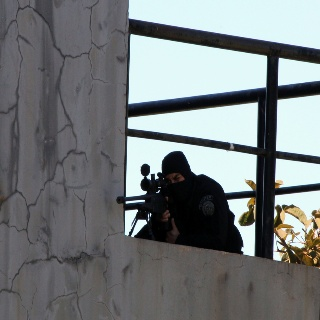rifle: (112, 162, 172, 241)
